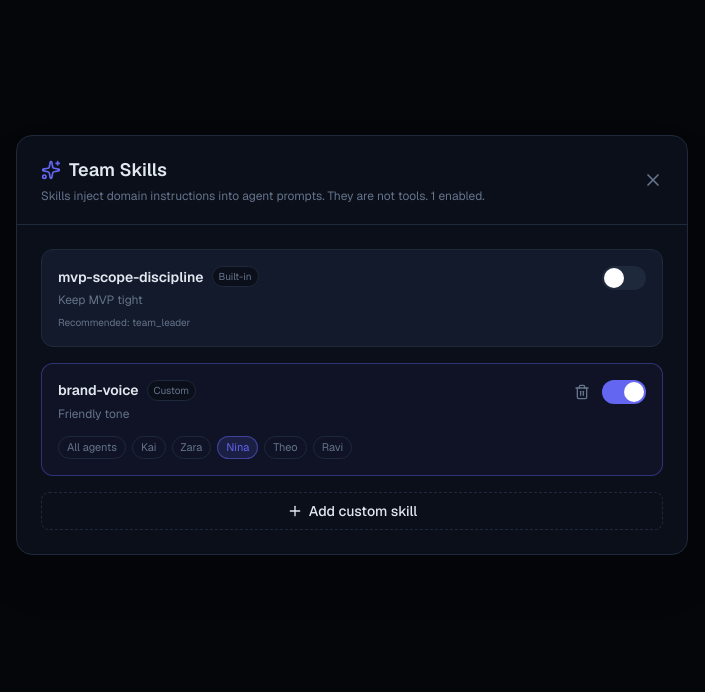
Test case: SkillsPanel › creates a custom skill
Step 1. Click the button "Add custom skill" → (352, 511), box [41, 492, 663, 530]
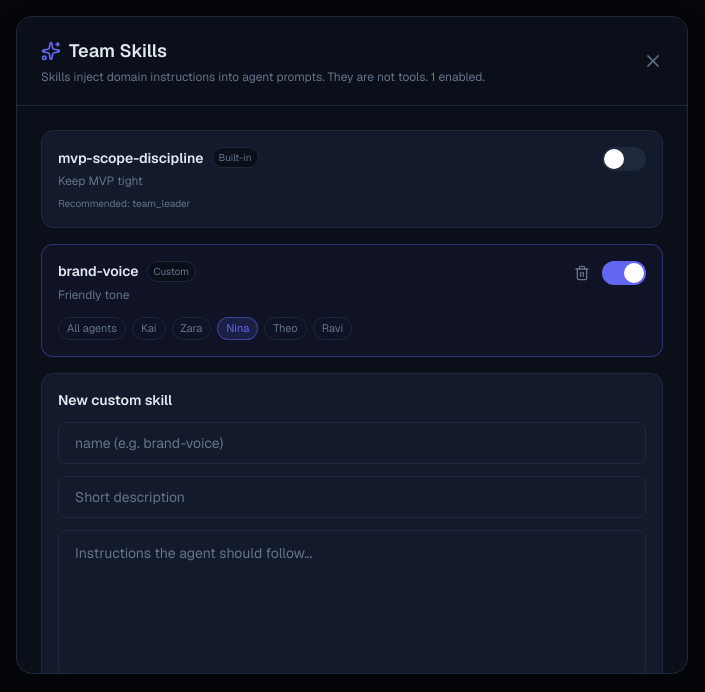
Step 2. Type "seo-checklist" into the field named "Skill name" → (352, 442), box [58, 422, 646, 464]
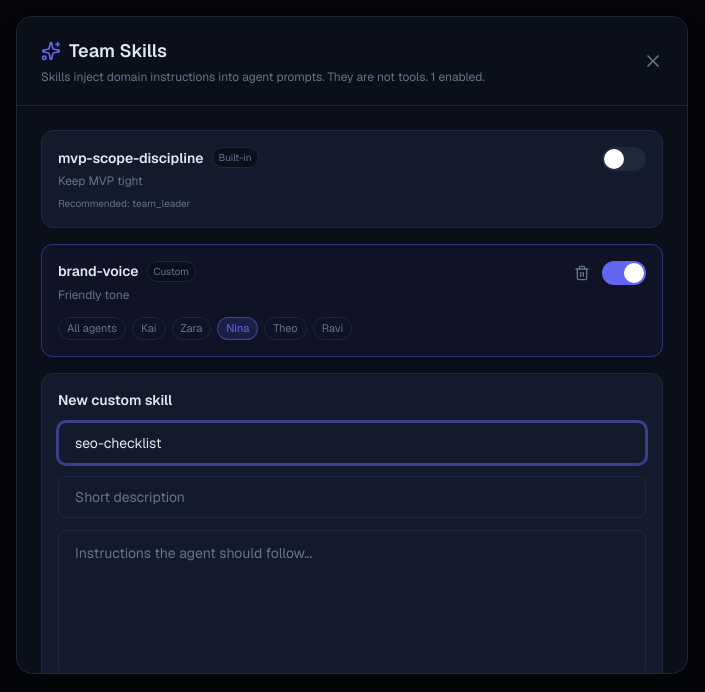
Step 3. Type "SEO basics" into the field named "Skill description" → (352, 496), box [58, 476, 646, 518]
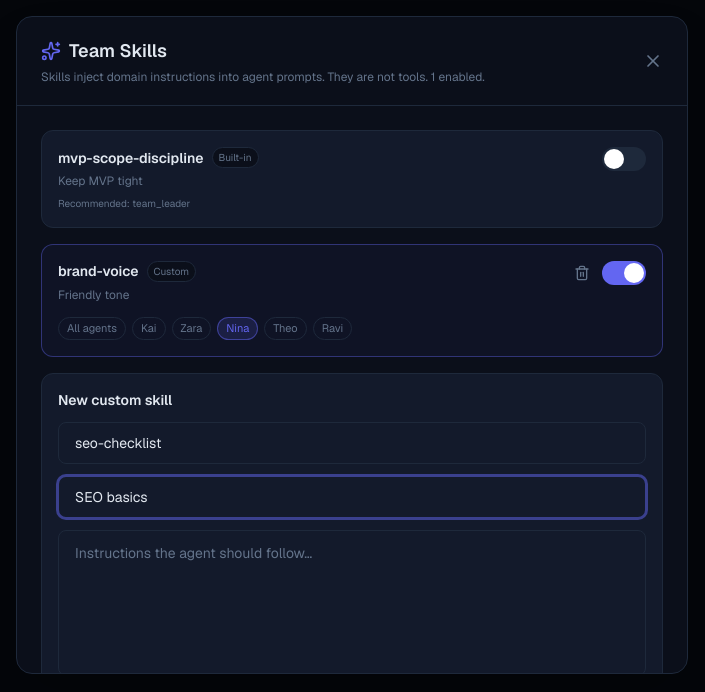
Step 4. Type "Add meta titles." into the text box named "Skill instructions" → (352, 602), box [58, 530, 646, 676]
(page scrolled)
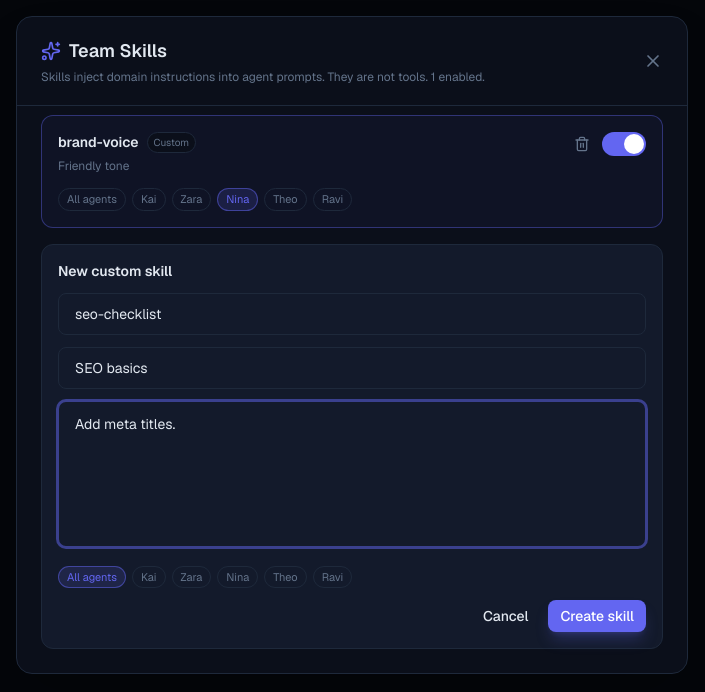
Step 5. Click the button "Create skill" → (597, 616), box [548, 600, 646, 632]
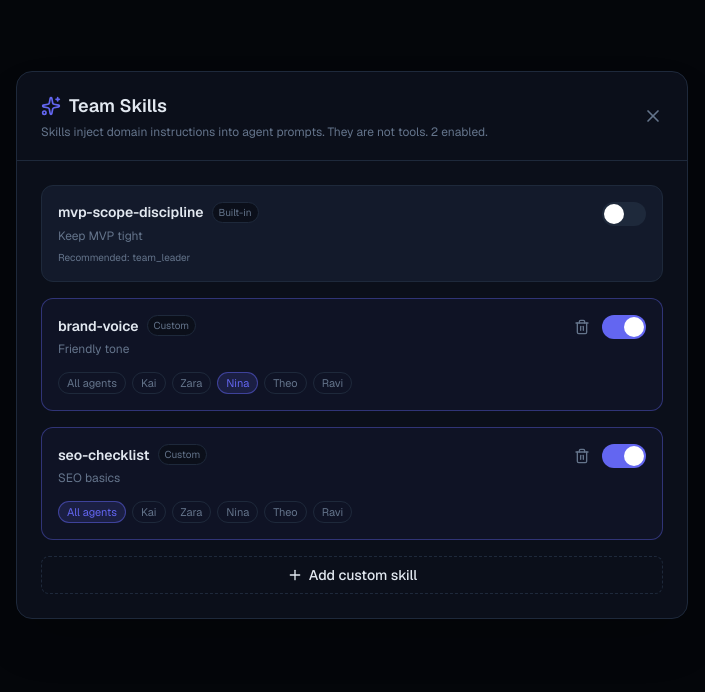
expect the heading "seo-checklist" is shown: met, box [58, 445, 150, 465]
